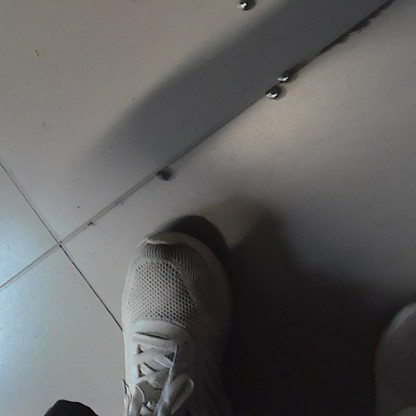ironball: (263, 83, 282, 101), (275, 66, 293, 85), (233, 0, 255, 13)
